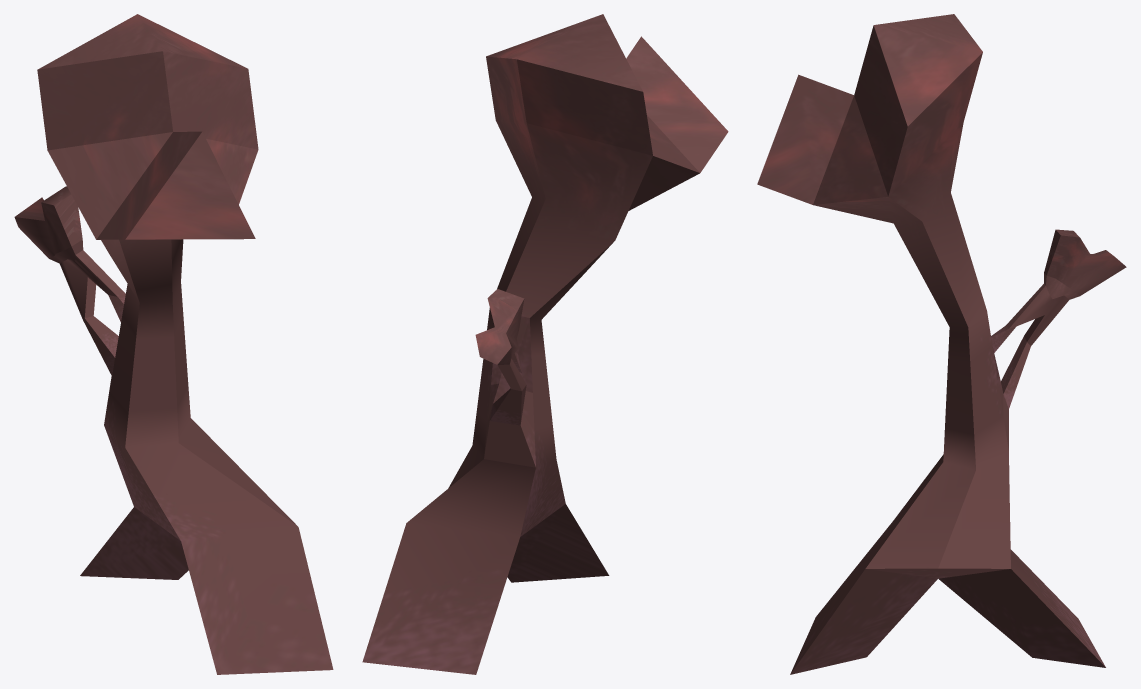
The model's file is Tree_Four.fbx.
The picture shows the model from 3 angles, left to right: view 1: azimuth 30°, elevation 25°; view 2: azimuth 150°, elevation 25°; view 3: azimuth 270°, elevation 25°; orthographic projection. The views are drawn at different scales.
Visible parts, largest first — view 1: pCylinder4; view 2: pCylinder4; view 3: pCylinder4.
Part boxes in pixels (bbox=[...]): pCylinder4: bbox=[14, 14, 333, 674]; pCylinder4: bbox=[362, 14, 728, 674]; pCylinder4: bbox=[757, 14, 1126, 674].
Size of the model in its own units: 3.04 by 8.35 by 4.74.
1 material, 1 textured.
